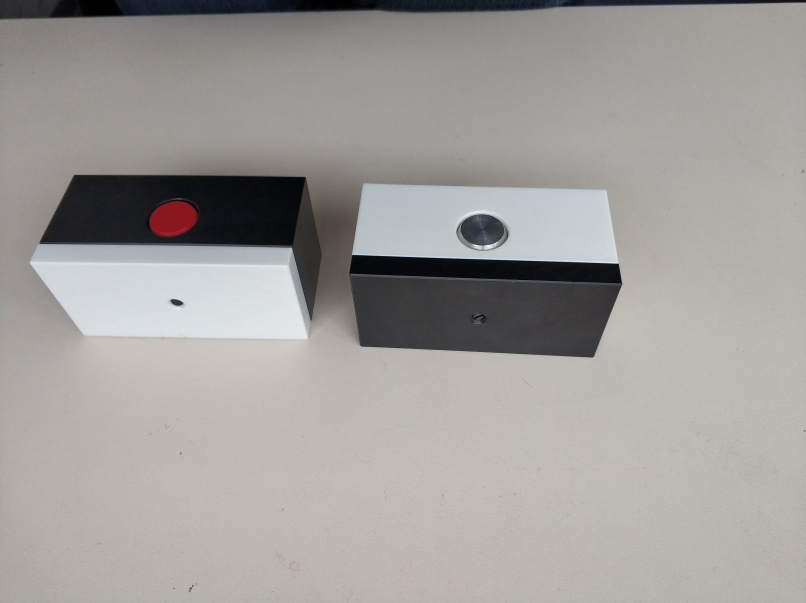black+white+silver: (347, 180, 625, 361)
white+black+red: (24, 171, 325, 342)
